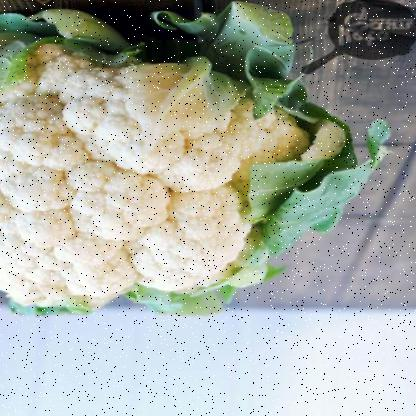cauliflower: (7, 4, 372, 309)
